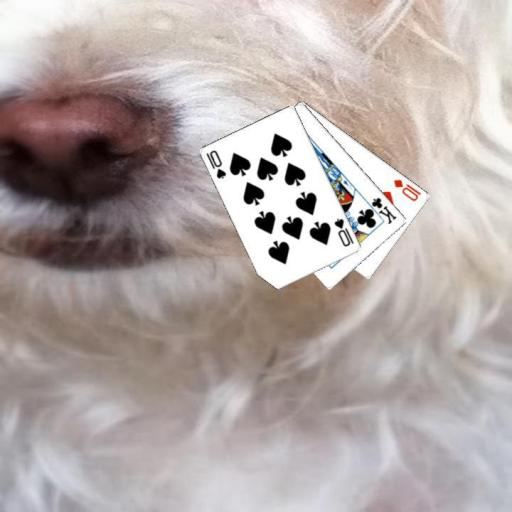10D: (391, 176, 423, 203)
10S: (204, 147, 228, 180), (332, 216, 356, 248)
KC: (363, 194, 398, 226)
